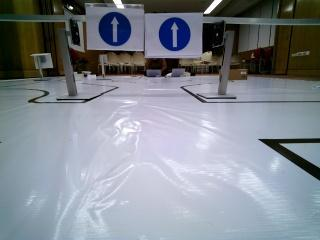straight: (86, 6, 145, 50), (147, 12, 198, 56)
